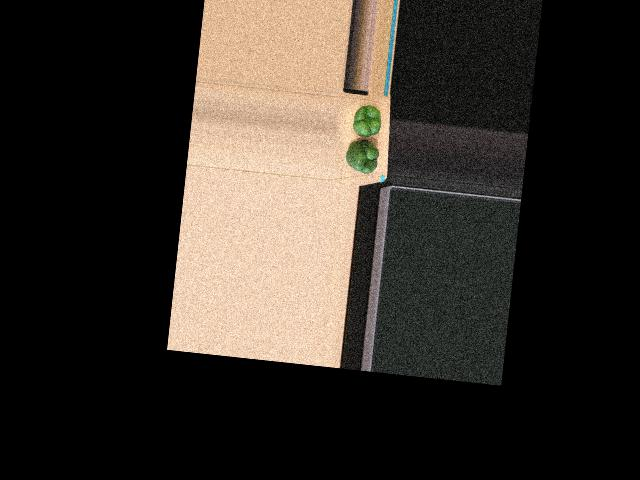bell_pepper: (347, 103, 383, 139)
